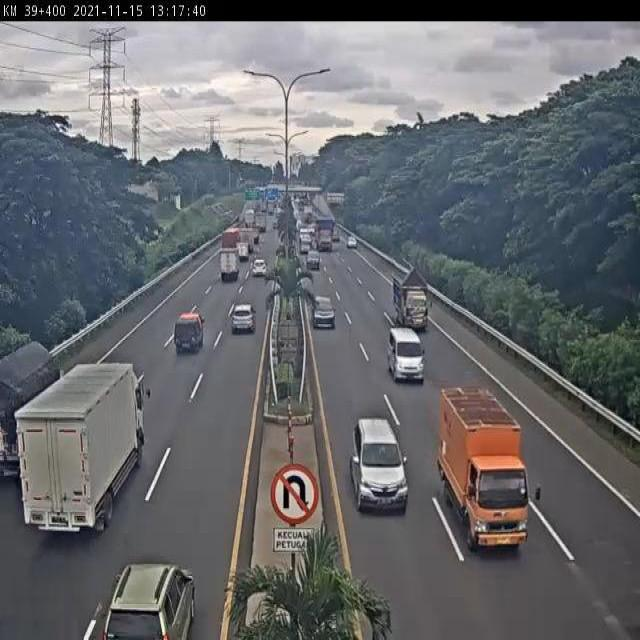car: (350, 416, 410, 512), (385, 324, 426, 381), (173, 309, 205, 359), (312, 291, 338, 332), (229, 300, 255, 339), (304, 250, 323, 274), (251, 259, 268, 281)
truck-m-: (23, 360, 146, 535), (434, 383, 534, 548), (393, 269, 431, 331)
truck-s-: (0, 338, 60, 486), (216, 247, 242, 284)
